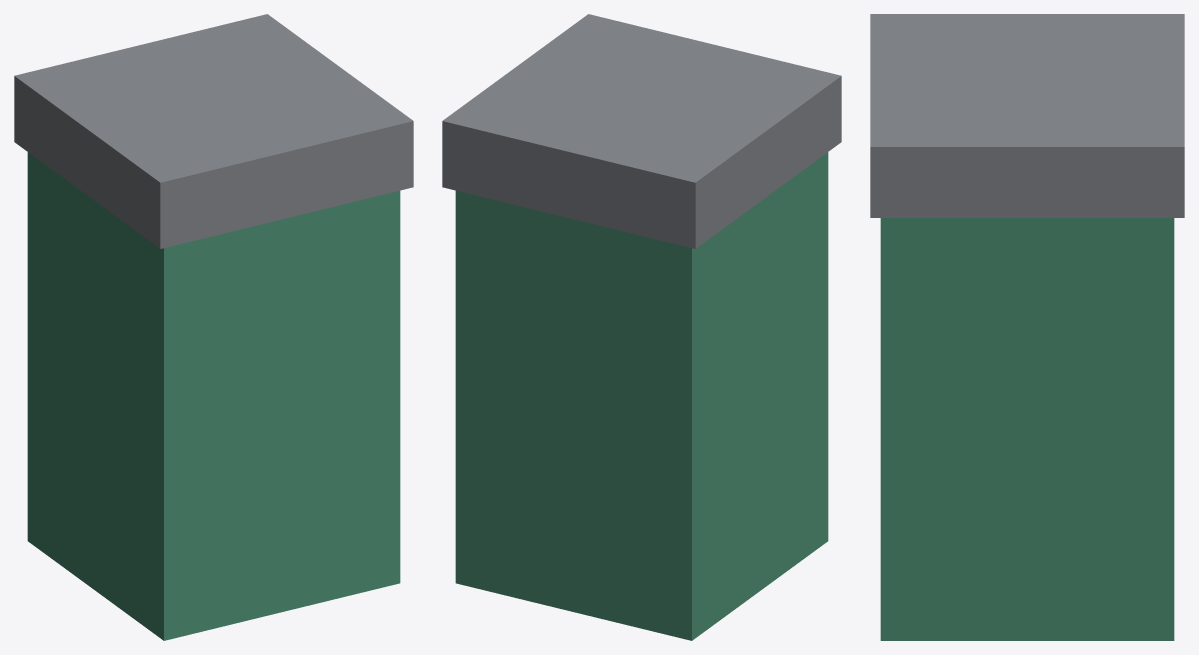
File: hk-street-bin.glb
The picture shows the model from 3 angles, left to right: view 1: azimuth 30°, elevation 25°; view 2: azimuth 150°, elevation 25°; view 3: azimuth 270°, elevation 25°; orthographic projection. The views are drawn at different scales.
Visible parts, largest first — view 1: hk-street-bin; view 2: hk-street-bin; view 3: hk-street-bin.
Boxes of the visible parts, x1=… form: hk-street-bin: x1=14, y1=14, x2=413, y2=640; hk-street-bin: x1=442, y1=14, x2=841, y2=640; hk-street-bin: x1=870, y1=14, x2=1184, y2=640.
Bounding box in the file's own units: 0.6 × 1.05 × 0.6.
